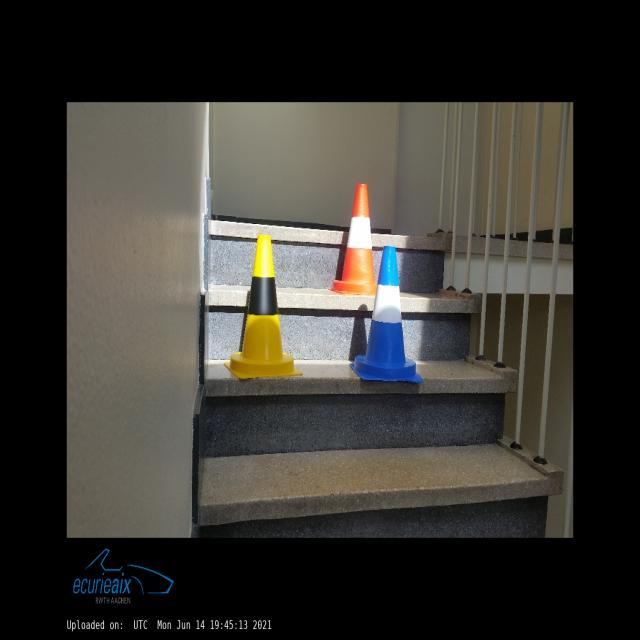blue_cone: (350, 246, 423, 383)
orange_cone: (329, 184, 376, 296)
yellow_cone: (224, 235, 302, 379)
